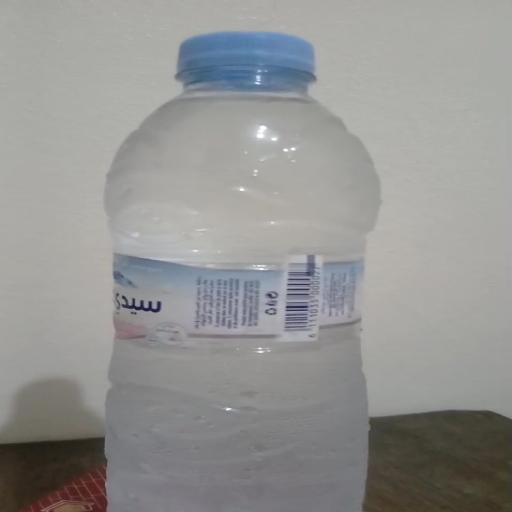bouteille conformite: (106, 26, 366, 512)
